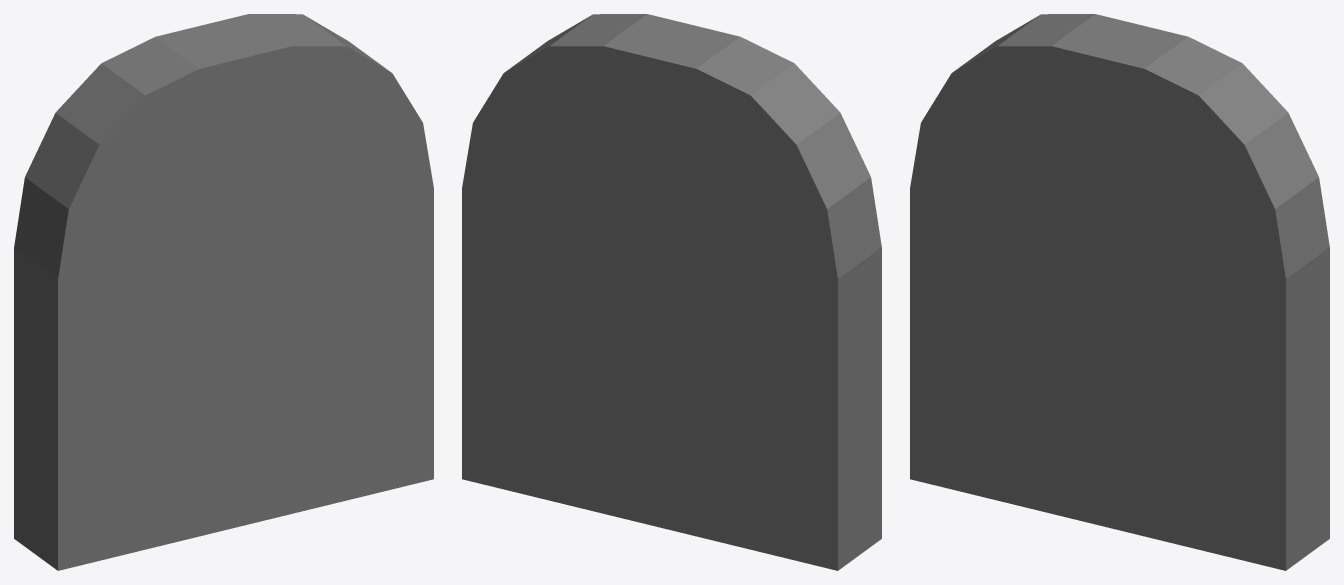
Rendered from grave.obj.
3 views of the same model, side by side, from view 1: azimuth 30°, elevation 25°; view 2: azimuth 150°, elevation 25°; view 3: azimuth 330°, elevation 25° (orthographic).
Visible parts, largest first — view 1: Mesh; view 2: Mesh; view 3: Mesh.
Part boxes in pixels (box(x1,y1,x2,y2)): Mesh: box(14, 14, 433, 570); Mesh: box(462, 14, 881, 570); Mesh: box(910, 14, 1329, 570).
Size of the model in its own units: 9.87 by 11.74 by 2.
